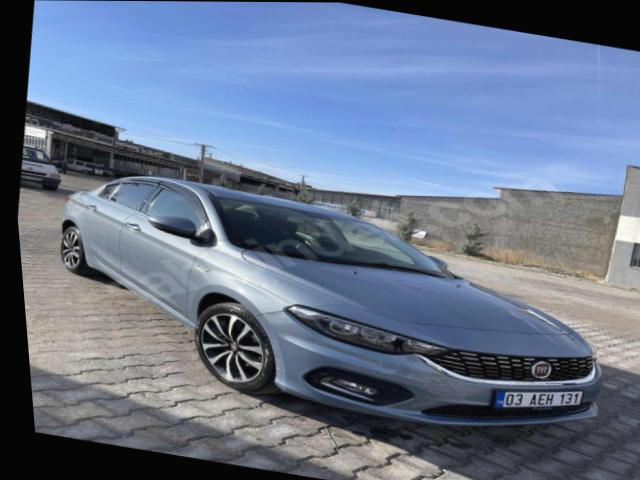plaka: (495, 391, 581, 408)
